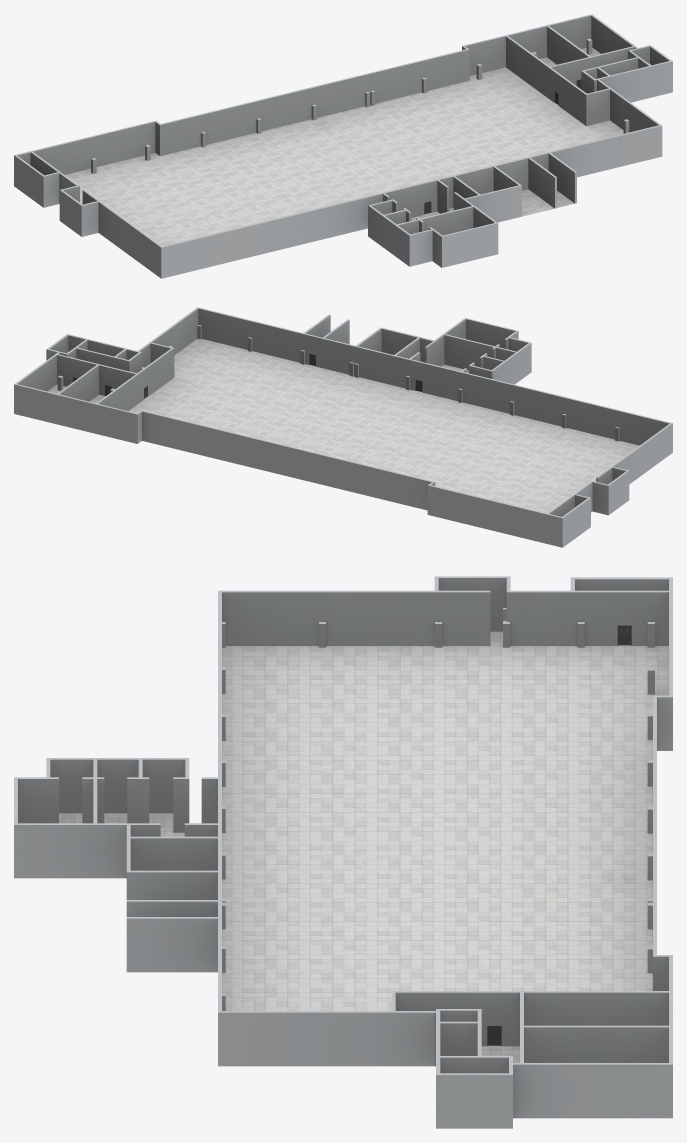
File: LXWZ_2-3F.glb
3 views of the same model, one above another, from view 1: azimuth 30°, elevation 25°; view 2: azimuth 150°, elevation 25°; view 3: azimuth 270°, elevation 25° (orthographic). The views are drawn at different scales.
Bounding box in the file's own units: 98.02 × 4.91 × 54.75.
1 material, 1 textured.
